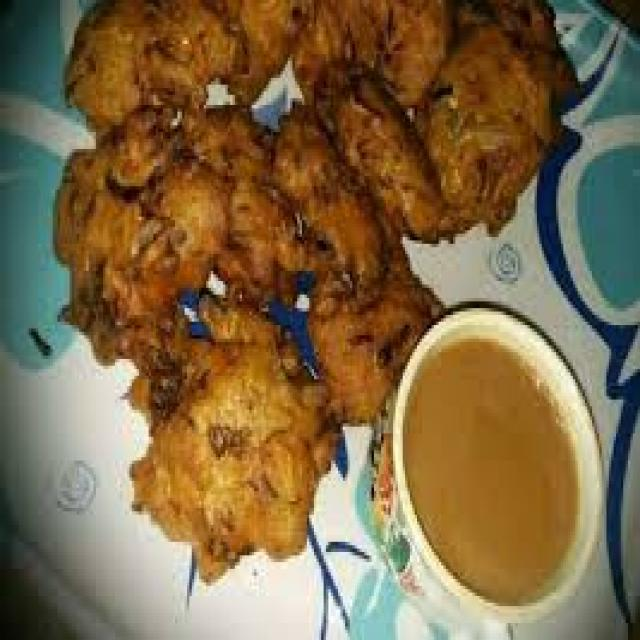BAJI: (55, 0, 570, 579), (134, 345, 336, 579)
